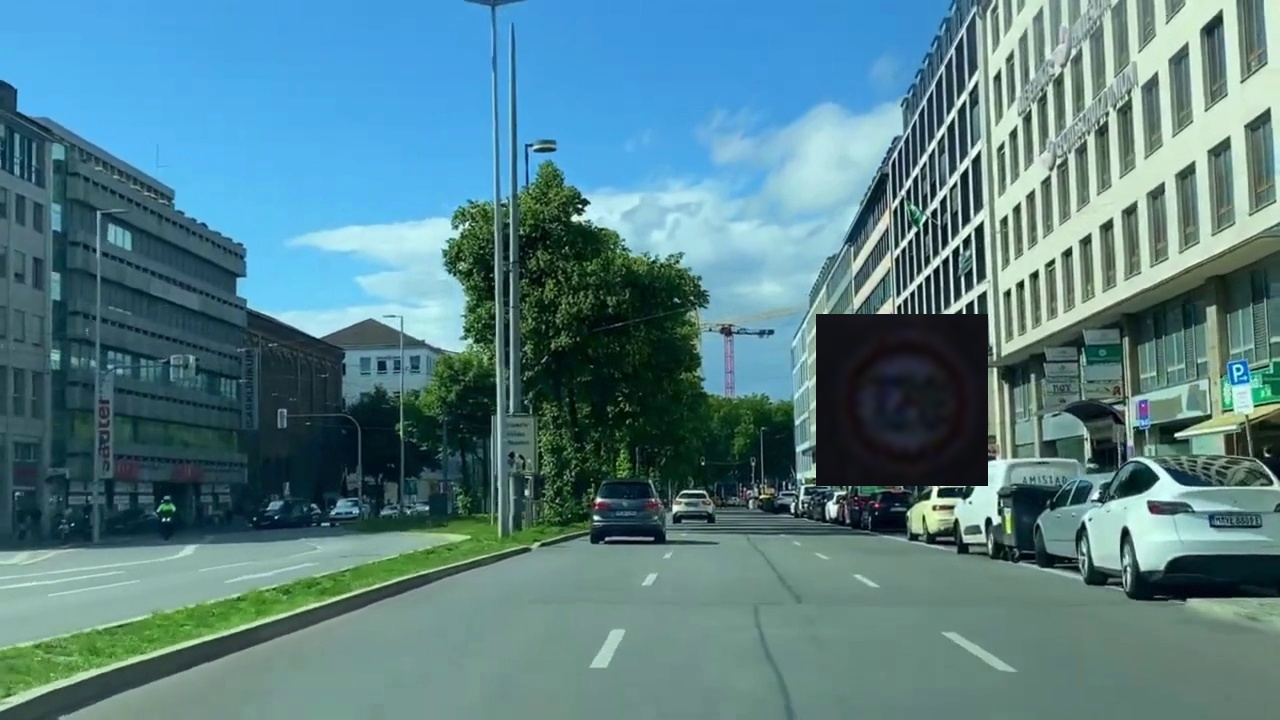Speed 120: (816, 314, 988, 486)
